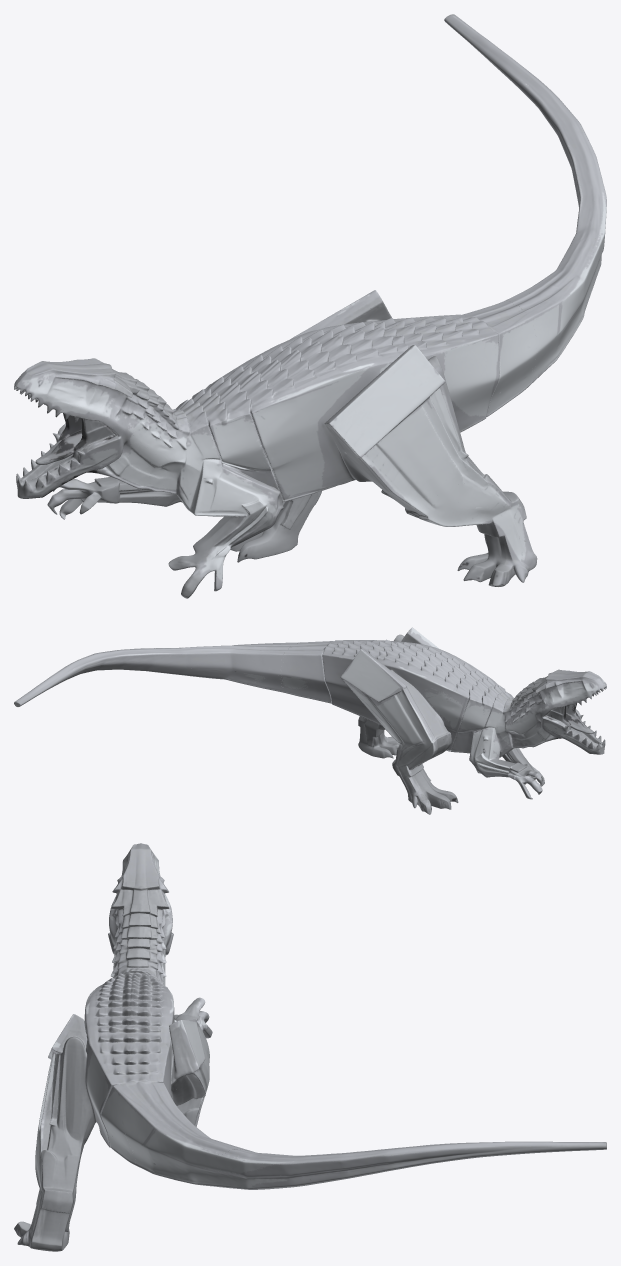
Rendered from indom.glb.
3 renders of one model, top to bottom at view 1: azimuth 30°, elevation 25°; view 2: azimuth 150°, elevation 25°; view 3: azimuth 270°, elevation 25°, orthographic. The views are drawn at different scales.
Visible parts, largest first — view 1: body_m, head_m, tail1_m, tail3_m, legB2_m, tail2_m, jaw_m, legA_m, legB1_m; view 2: body_m, tail1_m, head_m, tail2_m, tail3_m, legA_m, jaw_m, legB2_m; view 3: tail1_m, body_m, tail3_m, head_m, tail2_m, legB2_m.
Part boxes in pixels (x1,y1,x2,y2): body_m: [138, 290, 458, 591]; head_m: [14, 358, 195, 598]; tail1_m: [374, 290, 537, 492]; tail3_m: [444, 14, 606, 288]; legB2_m: [457, 476, 537, 586]; tail2_m: [507, 236, 595, 382]; jaw_m: [16, 433, 129, 519]; legA_m: [230, 495, 314, 562]; legB1_m: [379, 486, 459, 526]; body_m: [354, 627, 539, 780]; tail1_m: [279, 635, 398, 719]; head_m: [501, 669, 606, 789]; tail2_m: [188, 642, 297, 692]; tail3_m: [14, 646, 197, 706]; legA_m: [399, 748, 458, 814]; jaw_m: [522, 715, 605, 799]; legB2_m: [358, 716, 399, 758]; tail1_m: [37, 1020, 201, 1164]; body_m: [37, 944, 209, 1137]; tail3_m: [216, 1141, 606, 1189]; head_m: [108, 843, 207, 1033]; tail2_m: [125, 1107, 250, 1188]; legB2_m: [14, 1138, 85, 1251].
Size of the model in its own units: 0.8943 by 0.3197 by 0.753.
1 material, 1 textured.
